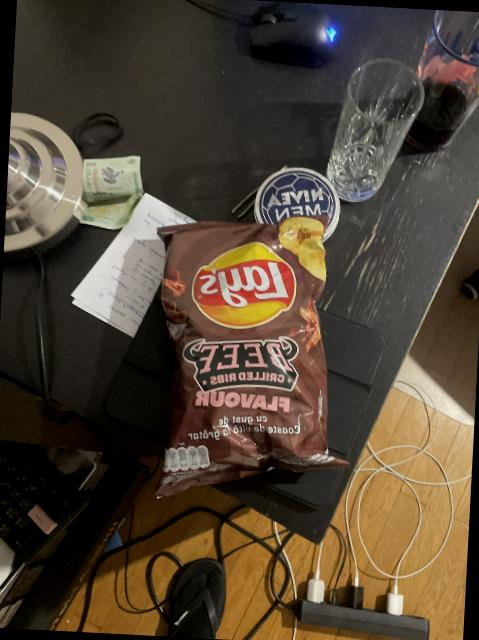Lays Beef Grilled Ribs 125g: (148, 225, 362, 478)
